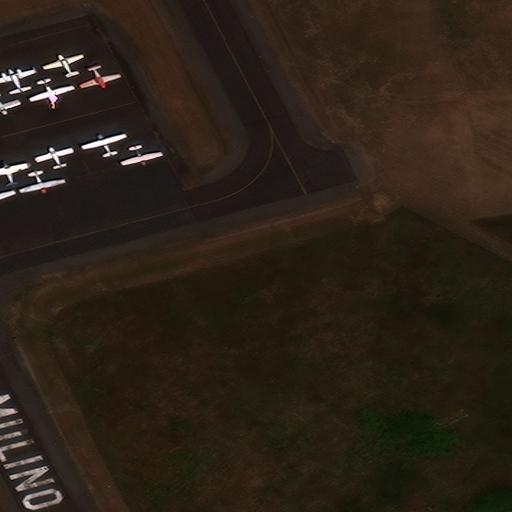Small Civil Transport: (19, 168, 67, 195), (79, 132, 124, 158), (31, 78, 75, 103), (122, 143, 164, 167), (81, 64, 121, 89), (41, 53, 81, 77), (32, 145, 71, 169), (0, 67, 33, 95), (0, 160, 28, 188), (0, 95, 22, 117)
